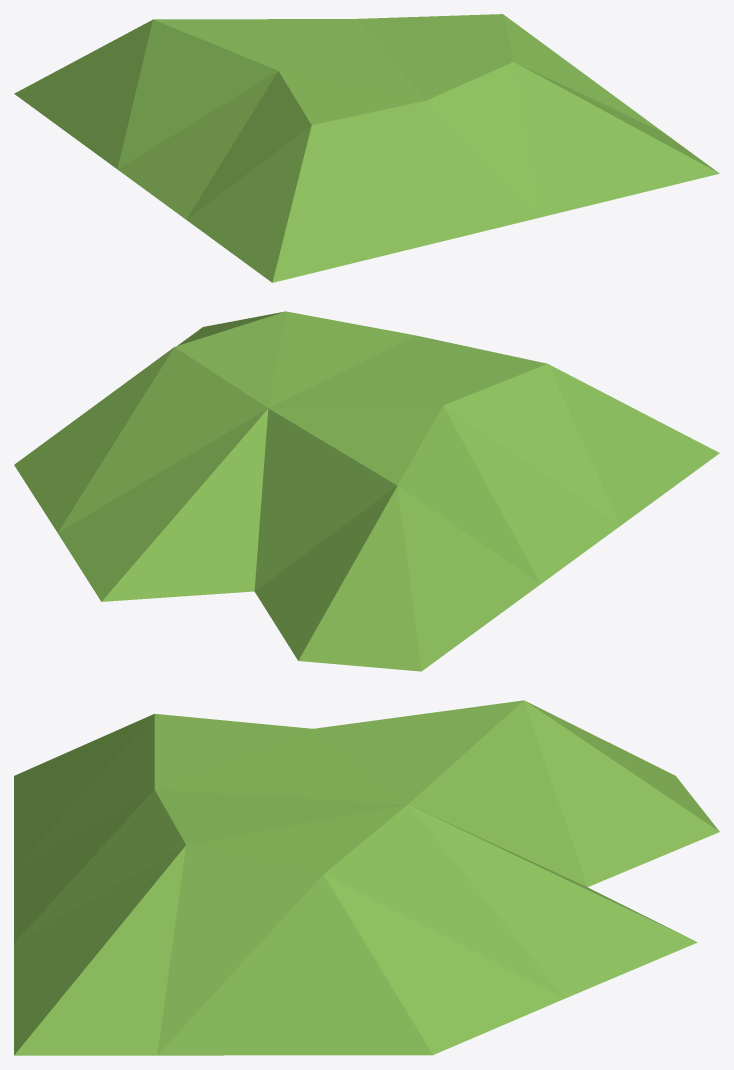
The model's file is MT_Mountain_S_b_07_LOD.fbx.
The picture shows the model from 3 angles, top to bottom: view 1: azimuth 30°, elevation 25°; view 2: azimuth 150°, elevation 25°; view 3: azimuth 270°, elevation 25°; orthographic projection. The views are drawn at different scales.
Parts seen in each view (by area): view 1: MT_Mountain_S_b_07_LOD0; view 2: MT_Mountain_S_b_07_LOD0; view 3: MT_Mountain_S_b_07_LOD0.
Part boxes in pixels (x1,y1,x2,y2): MT_Mountain_S_b_07_LOD0: [14, 14, 719, 282]; MT_Mountain_S_b_07_LOD0: [14, 311, 719, 671]; MT_Mountain_S_b_07_LOD0: [14, 700, 719, 1055].
Size of what is drawn, in the model's own units: 1224 by 256 by 1305.
